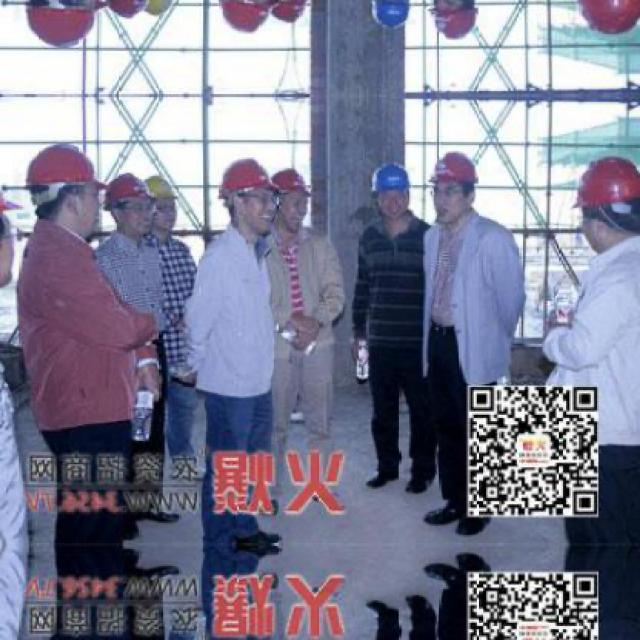helmet: (32, 145, 106, 236), (561, 159, 637, 245), (223, 163, 275, 234), (31, 0, 106, 48), (429, 153, 480, 222), (108, 173, 155, 234), (562, 0, 638, 34), (143, 176, 183, 236), (369, 162, 411, 217), (429, 0, 482, 40), (274, 163, 308, 219), (222, 0, 276, 29), (370, 0, 412, 31), (273, 0, 308, 29), (108, 0, 157, 20), (142, 0, 183, 17)
